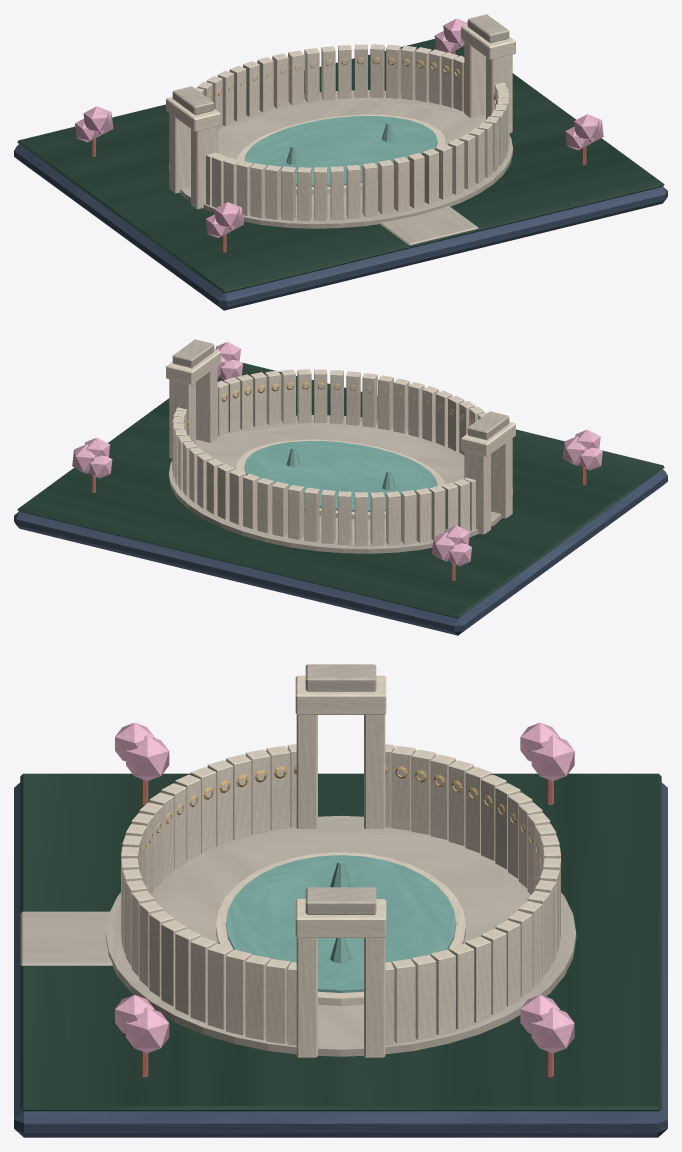
The model's file is wwii-memorial-diorama.glb.
The picture shows the model from 3 angles, top to bottom: view 1: azimuth 30°, elevation 25°; view 2: azimuth 150°, elevation 25°; view 3: azimuth 270°, elevation 25°; orthographic projection. The views are drawn at different scales.
Parts seen in each view (by area): view 1: wwii-memorial; view 2: wwii-memorial; view 3: wwii-memorial.
Boxes of the visible parts, bbox=[...] form: wwii-memorial: bbox=[14, 14, 667, 310]; wwii-memorial: bbox=[14, 339, 667, 635]; wwii-memorial: bbox=[14, 664, 667, 1137].
Bounding box in the file's own units: 16 × 4.15 × 13.
Materials: 1 (1 with a texture image).
